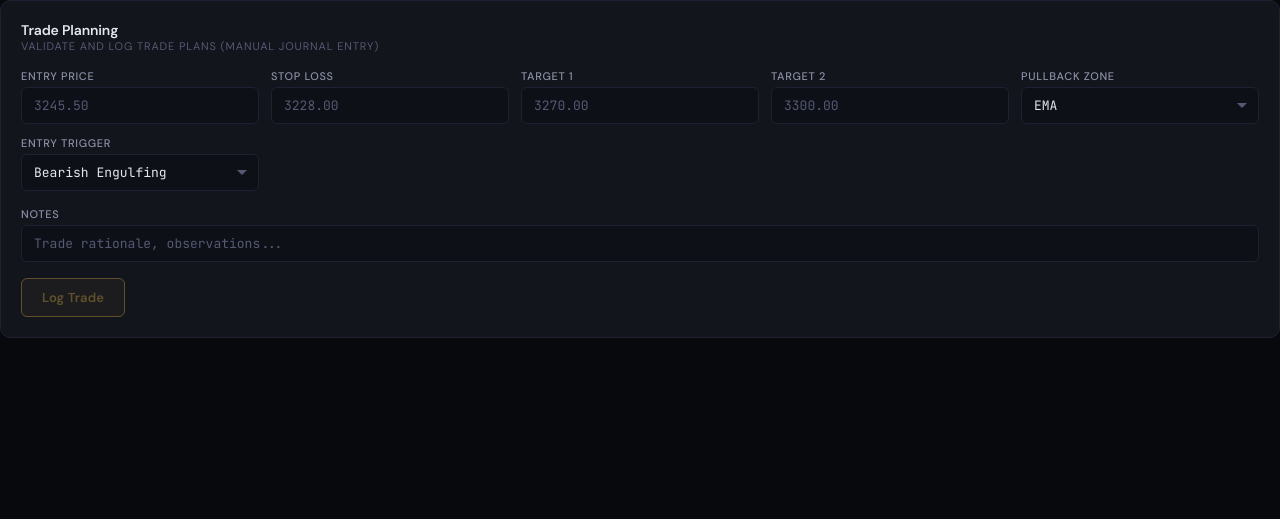
Scenario: TradePanel › shows R:R validation warning below 1.5
Type "3250" into the number field with placeholder "3245.50" at (140, 106), box [21,87,259,124]
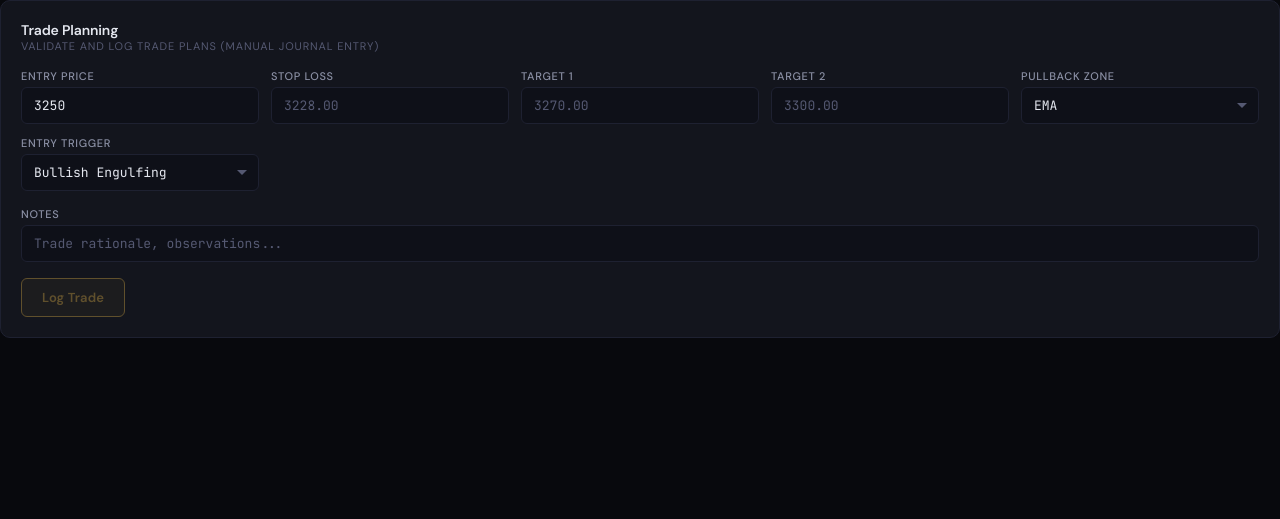
Type "3240" into the number field with placeholder "3228.00" at (390, 106), box [271,87,509,124]
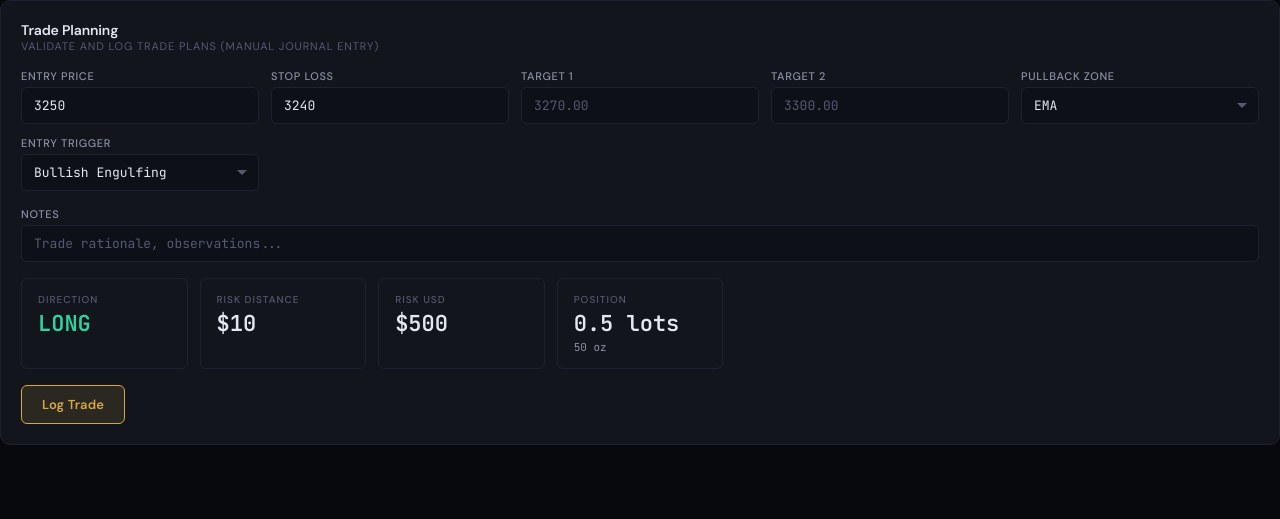
Type "3255" into the number field with placeholder "3270.00" at (640, 106), box [521,87,759,124]
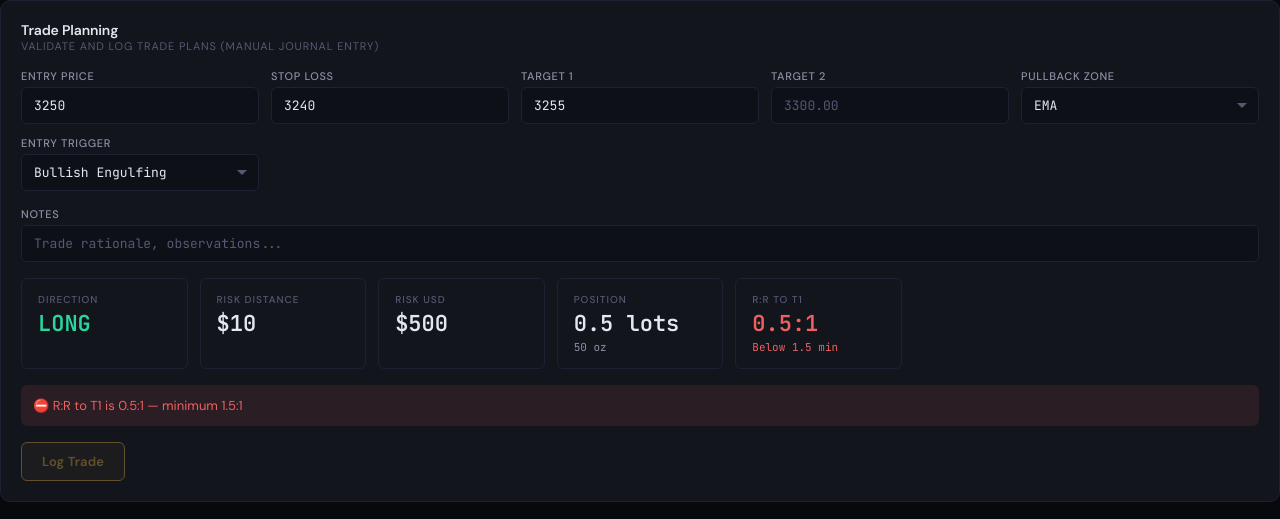
Now the text "⛔ R:R to T1 is 0.5:1 — minimum 1.5:1" is shown, box [33,397,243,414]
